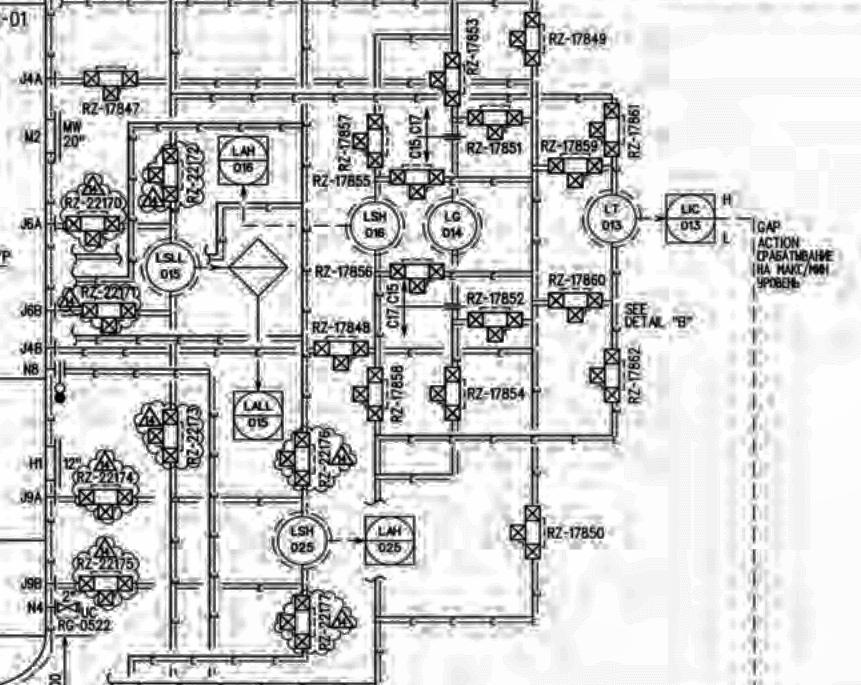2 WAY VALVE: (139, 140, 187, 208), (272, 589, 319, 655), (345, 359, 390, 427), (148, 398, 186, 477), (461, 101, 529, 145), (78, 292, 140, 340), (77, 64, 145, 107), (541, 284, 609, 327), (307, 334, 373, 377), (586, 93, 627, 161), (587, 344, 629, 410), (275, 426, 317, 491), (428, 359, 469, 425), (508, 8, 552, 69), (74, 482, 141, 522), (508, 498, 549, 563), (464, 307, 534, 345), (426, 49, 469, 109), (388, 163, 451, 203), (546, 150, 608, 190), (60, 211, 126, 248), (77, 571, 139, 610), (384, 260, 452, 295), (355, 108, 390, 172)
DCS ACCESSIBLE: (661, 183, 721, 251), (360, 507, 422, 571), (214, 129, 278, 190), (228, 384, 289, 445)
FIELD INSTRUMENT: (265, 512, 338, 572), (143, 233, 204, 300), (343, 197, 406, 259), (420, 200, 484, 259), (580, 189, 646, 245)
HARDWIRED INTERLOCK PRIMARY.: (221, 237, 294, 299)
REVISION TRIANGLE: (325, 598, 365, 637), (53, 288, 88, 317), (141, 184, 169, 218), (89, 451, 122, 476), (81, 173, 110, 201), (92, 536, 119, 565)
SPECTACLE BLIND CLOSED: (52, 354, 69, 408)
